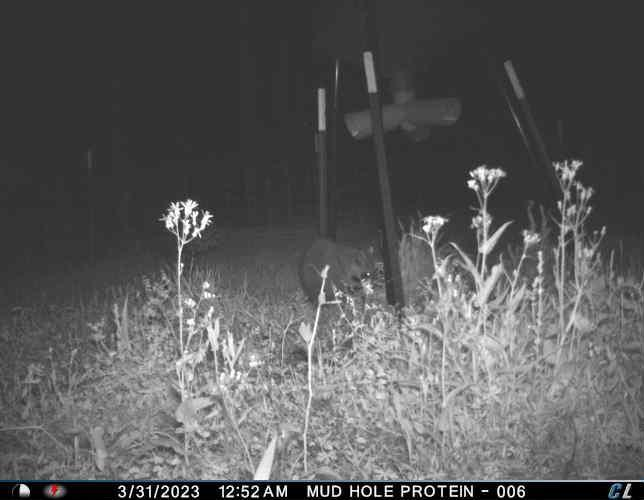Raccoon: (299, 236, 381, 306)
